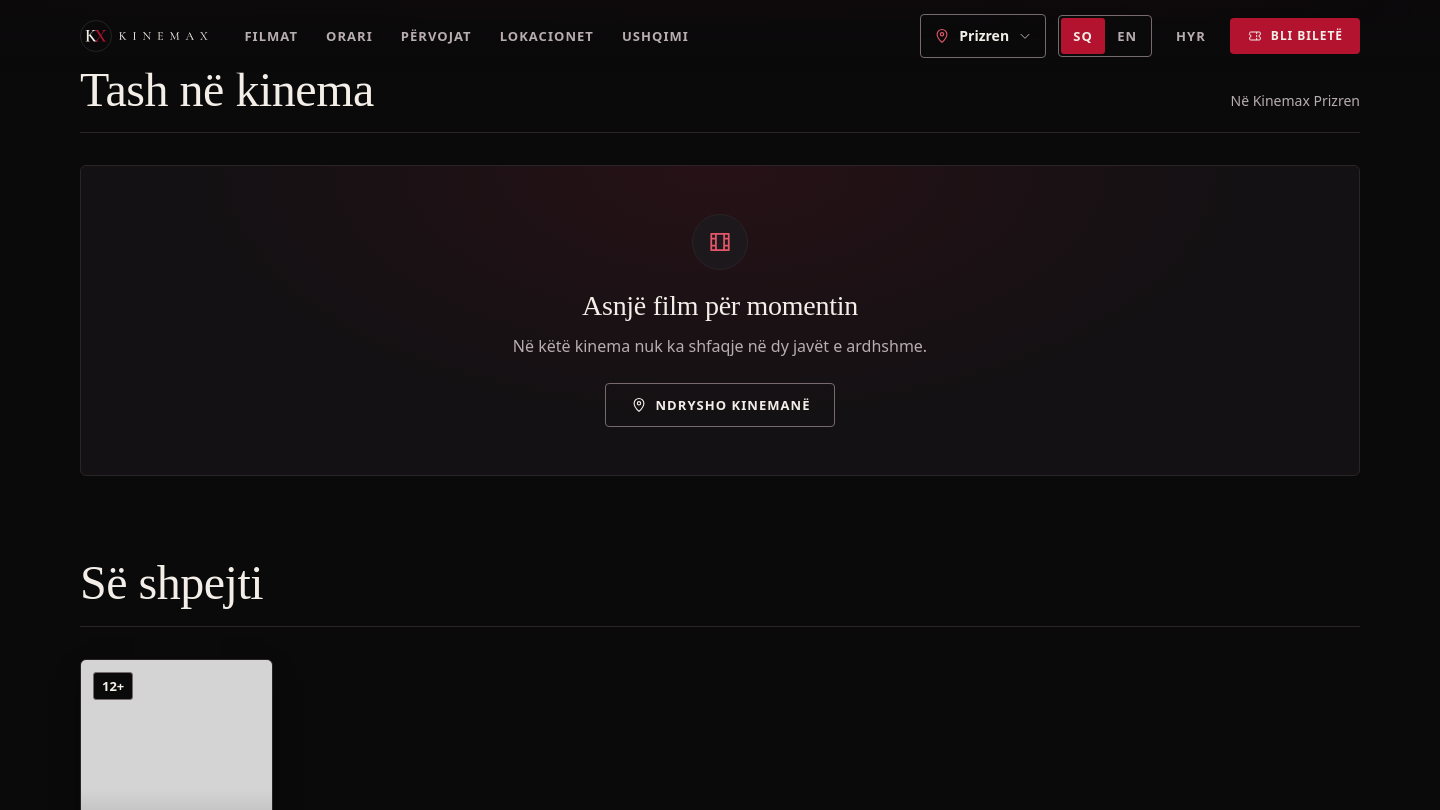
Test: HomePage: hero and movie lists › shows an empty state for a cinema without movies, with a way to change it
The width and height of the screenshot is (1440, 810).
(page scrolled)
Check: the heading "Asnjë film për momentin" is shown, box [582,290,858,322]
What coordinates should you click on to do the following:
click the button "Ndrysho kinemanë"
I would click on:
 (720, 405)
Its box is [604,383,836,427].
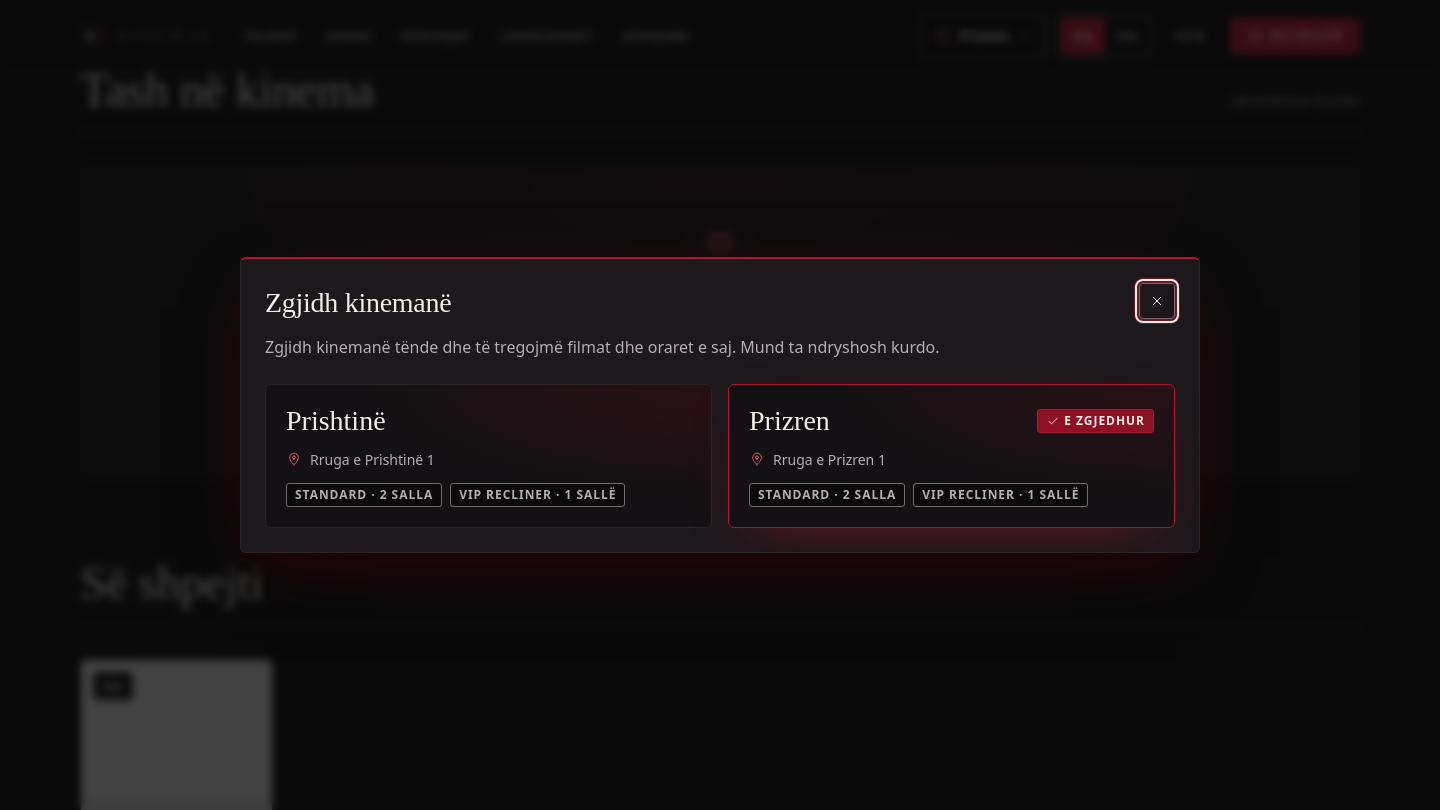
Check: the dialog "Zgjidh kinemanë" is shown, box [240,257,1200,553]
